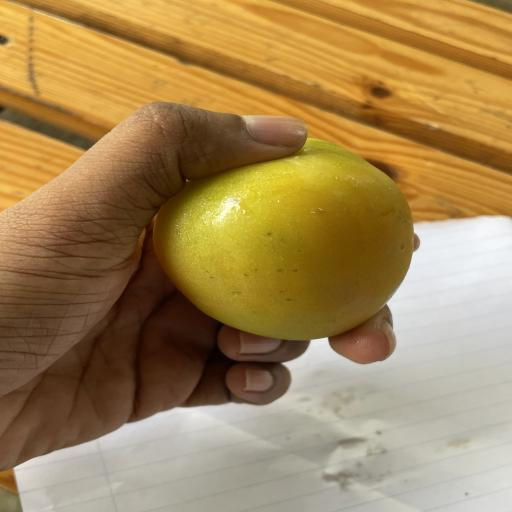unripe: (154, 139, 413, 340)
